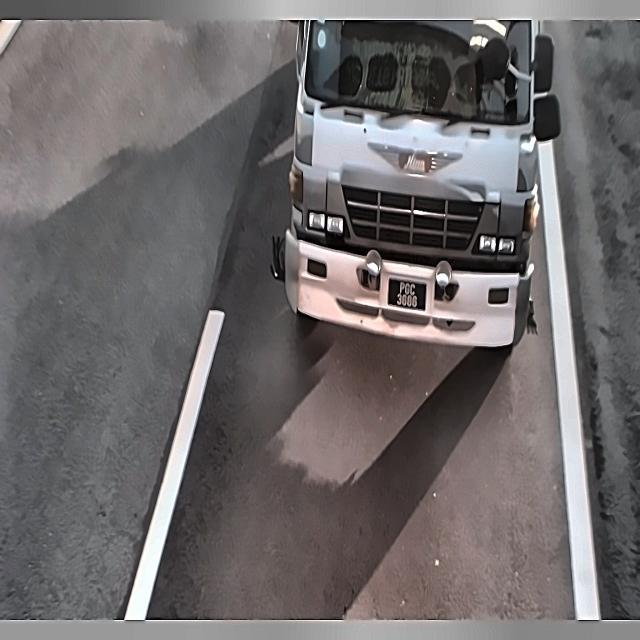car: (381, 261, 433, 329)
